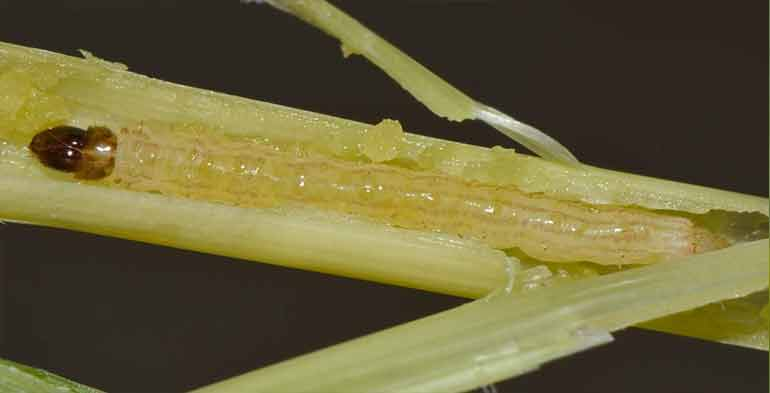Paddy_stemborer: (414, 174, 735, 267), (31, 126, 259, 196)
